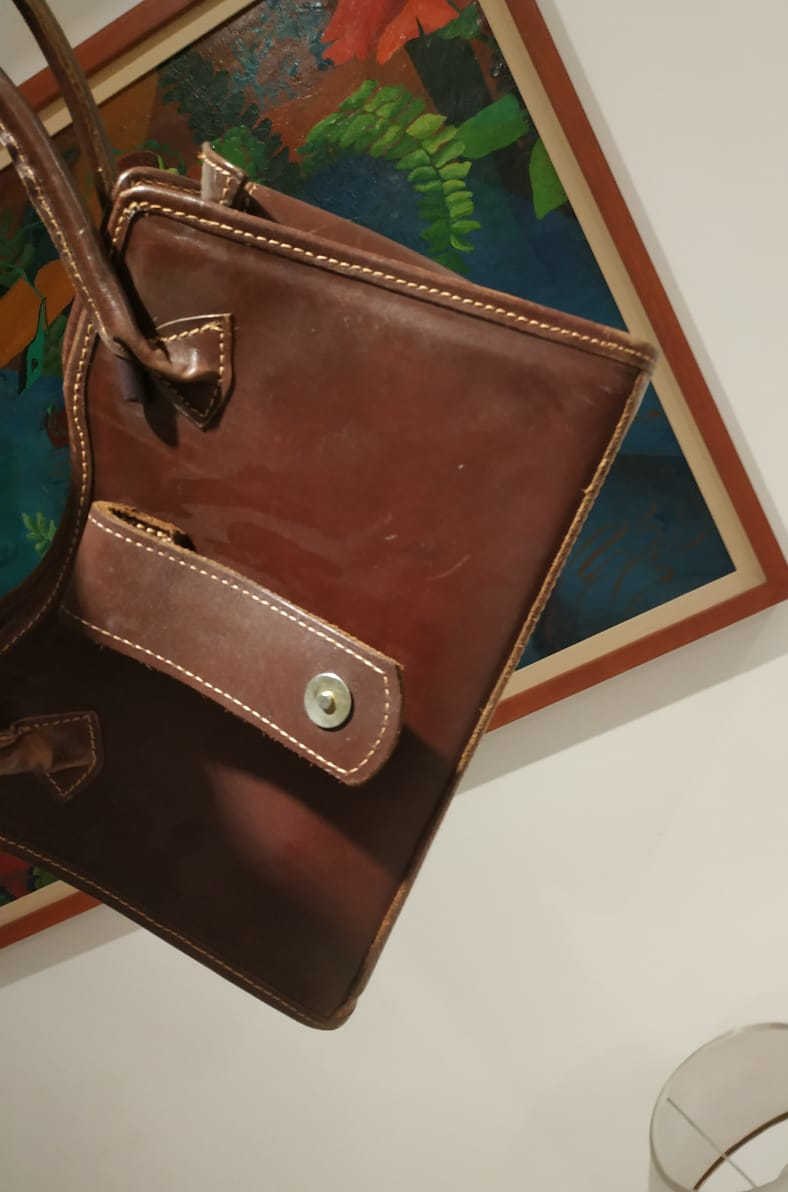cartera: (6, 14, 702, 1086)
cuero: (28, 76, 675, 1137)
